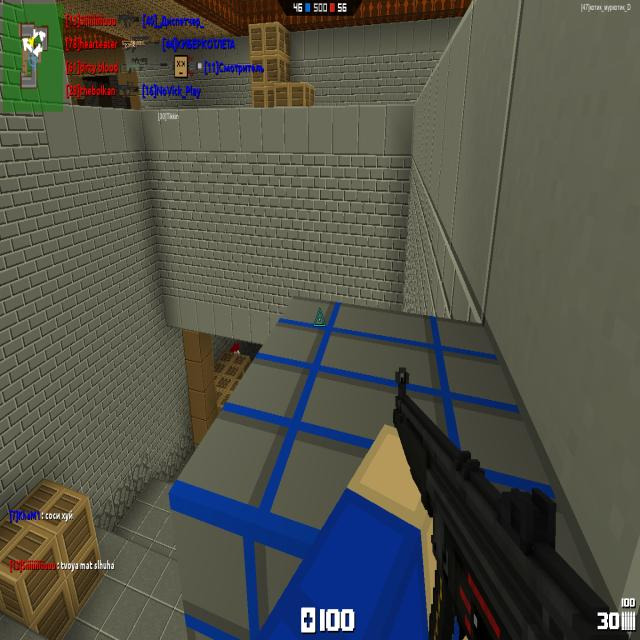enemy: (230, 342, 241, 354)
